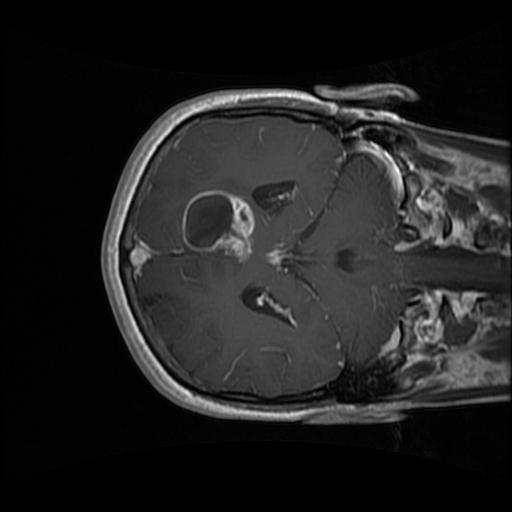glioma: (177, 186, 256, 269)
